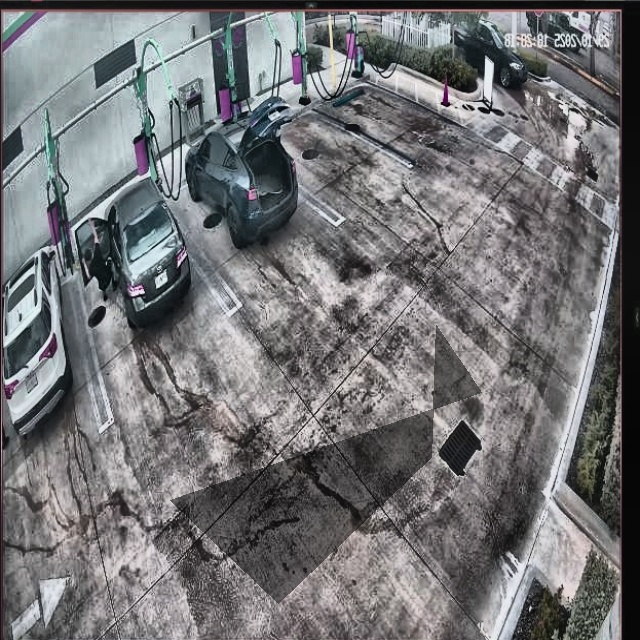Car: (185, 95, 297, 240), (81, 181, 190, 324)
